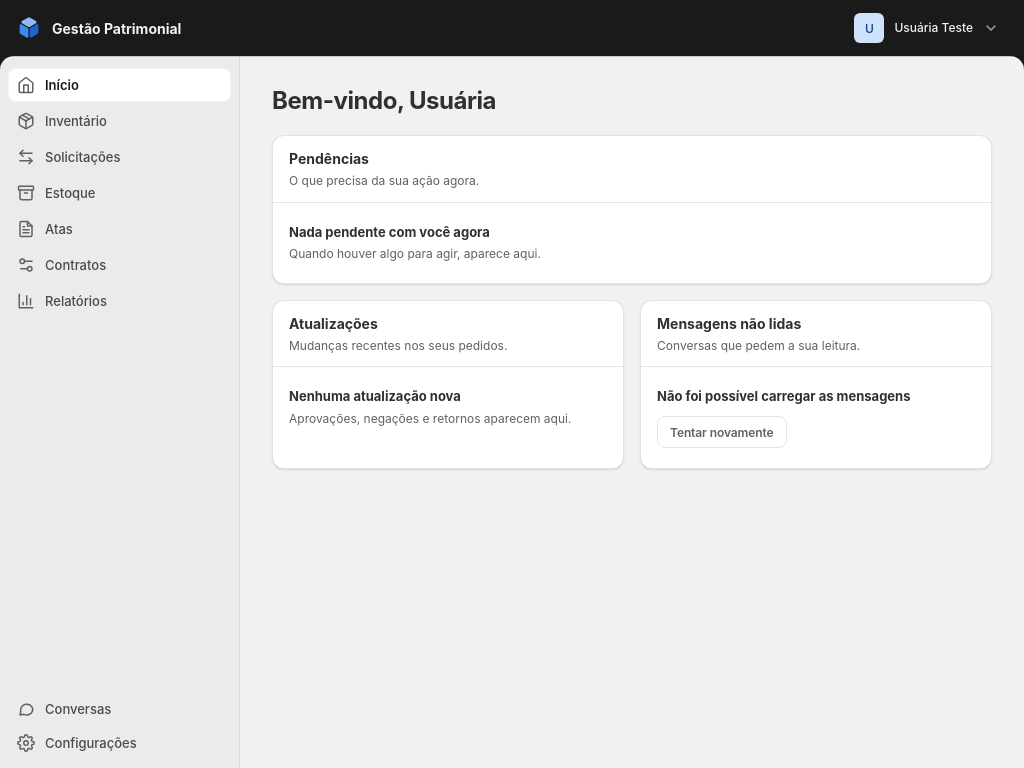
Inventário (UC03/UC04) › lista equipamentos com status, conservação e flag de emenda
Expected: the heading "Bem-vindo, Usuária" is shown, [272,88,496,115]
Click the link "Inventário" at (62, 121), box [17,112,107,130]
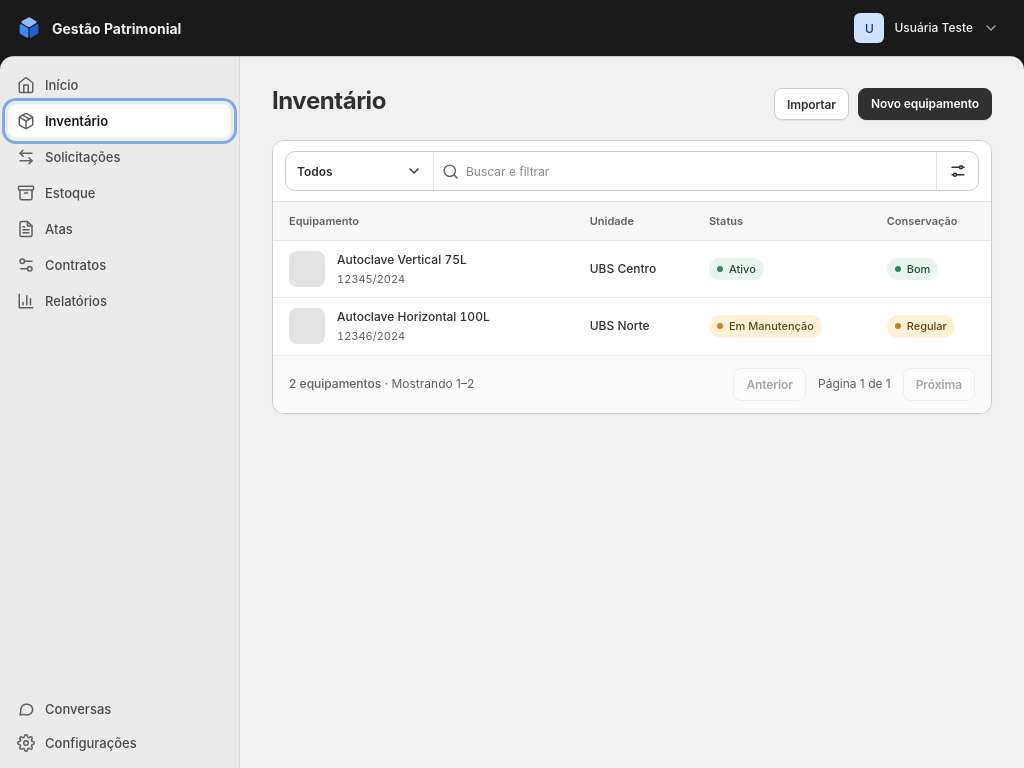
Expected: the heading "Inventário" is shown, [272,88,386,115]
Expected: the text "12345/2024" is shown, [337,272,405,286]
Expected: the text "Em Manutenção" is shown, [709,315,822,338]
Click the button with aria-label "Menu do usuário" at (927, 28), box [845,8,1008,48]
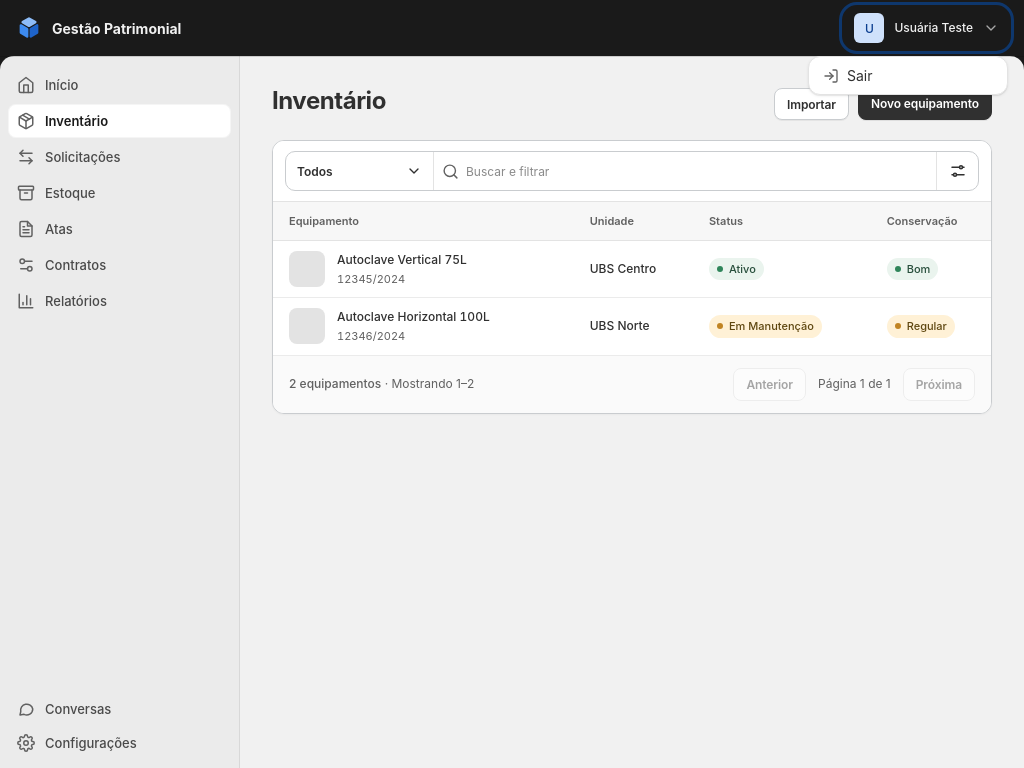
Expected: the button with aria-label "importar arquivo csv" reads "Importar", [774,88,849,120]
Expected: the button "Sair" is shown, [809,57,1007,94]
